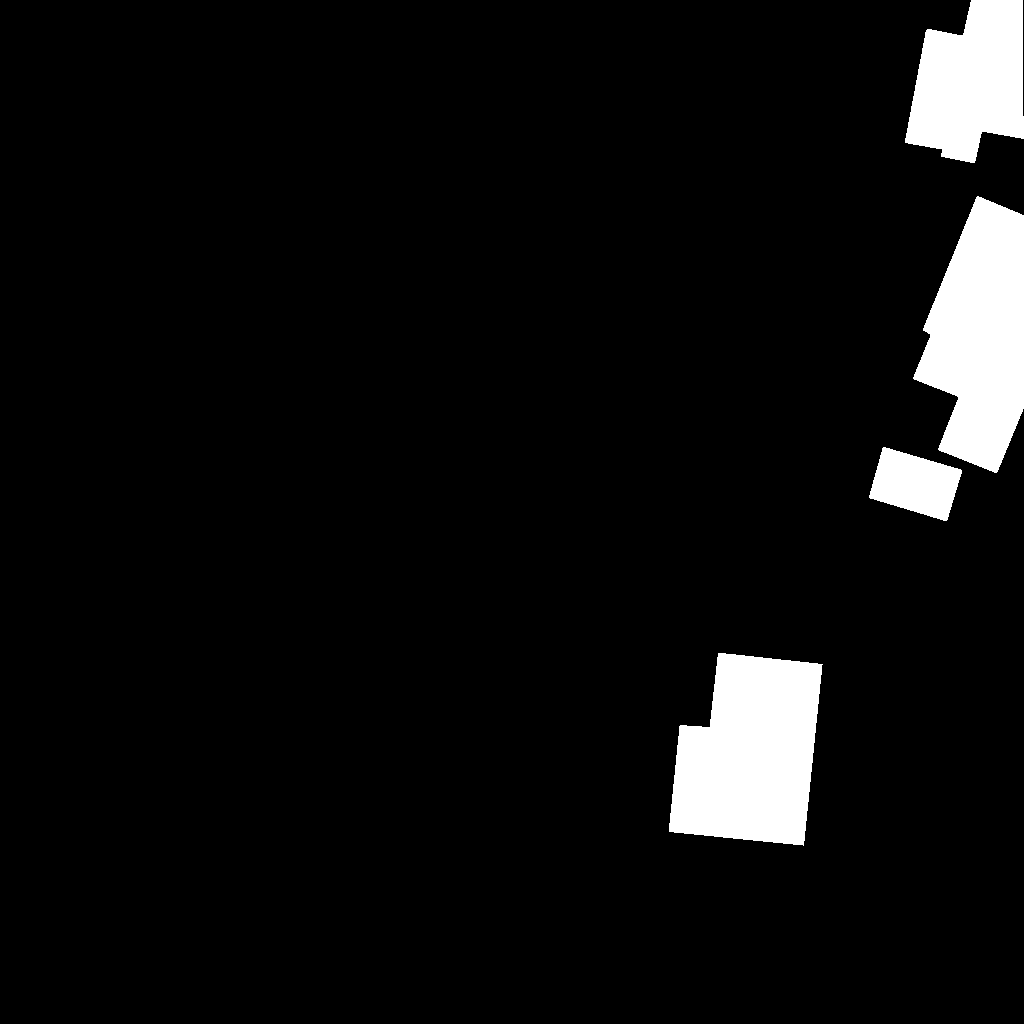building: (913, 196, 1024, 474), (669, 653, 823, 846), (905, 0, 1024, 164), (869, 447, 963, 522)
